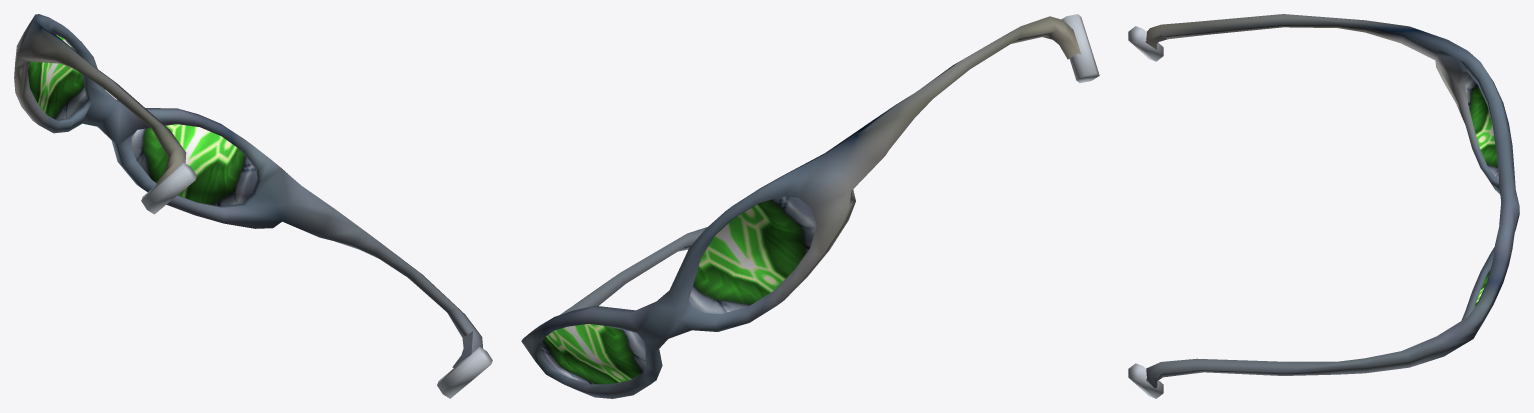
File: icon.ico.obj
3 views of the same model, side by side, from view 1: azimuth 30°, elevation 25°; view 2: azimuth 150°, elevation 25°; view 3: azimuth 270°, elevation 25° (orthographic). The views are drawn at different scales.
Bounding box in the file's own units: 4.42 × 3.87 × 5.
